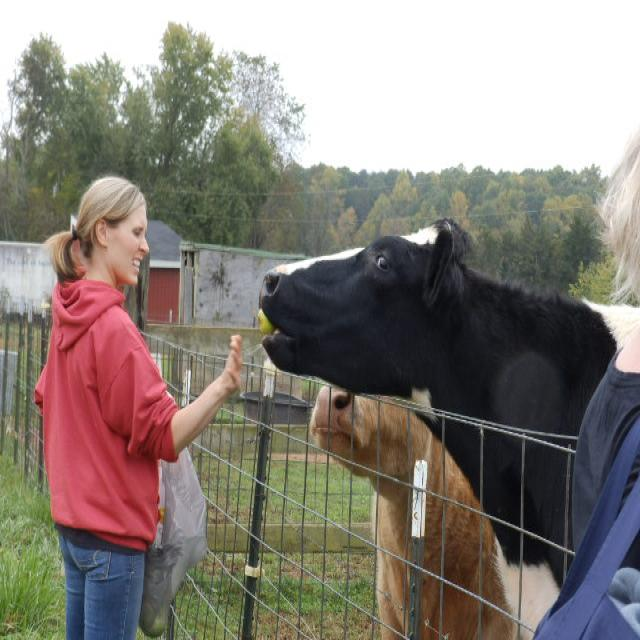cow: (260, 220, 640, 634), (310, 385, 515, 638)
